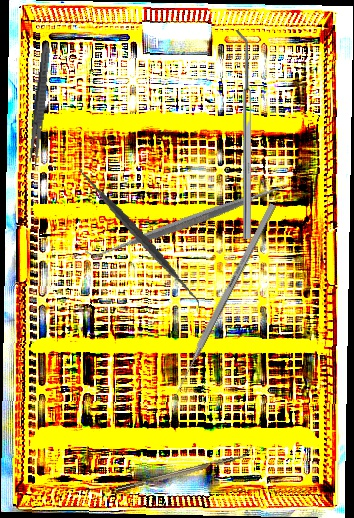Chopper: (113, 446, 255, 492)
Dressing Forceps: (27, 40, 53, 171)
Pusher: (170, 202, 277, 400)
Spatula Surgical: (84, 113, 296, 328), (61, 158, 217, 314), (235, 30, 251, 239)
